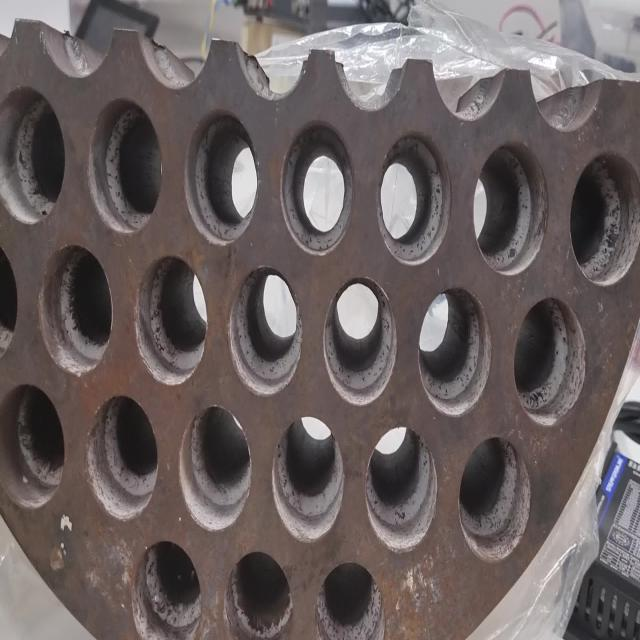Hole: (471, 140, 548, 276), (86, 98, 162, 235), (184, 107, 258, 245), (280, 118, 354, 256), (376, 130, 451, 266), (38, 242, 113, 376), (322, 276, 398, 407), (568, 150, 640, 286), (134, 254, 208, 386), (228, 264, 302, 396), (418, 285, 492, 416), (458, 434, 532, 564), (364, 424, 438, 554), (513, 296, 586, 426), (85, 393, 158, 521), (180, 404, 252, 532), (272, 416, 344, 543), (1, 86, 66, 224), (1, 381, 65, 510), (132, 537, 203, 639), (224, 550, 294, 640), (315, 561, 386, 639), (0, 232, 18, 365)
